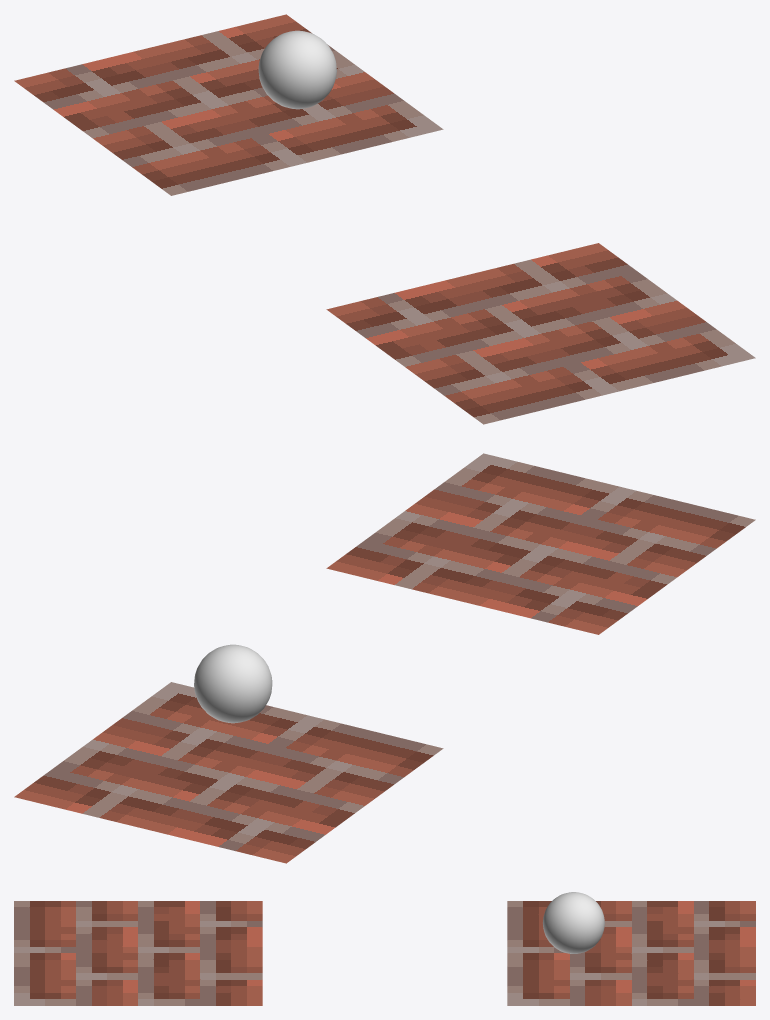
3 views of the same model, one above another, from view 1: azimuth 30°, elevation 25°; view 2: azimuth 150°, elevation 25°; view 3: azimuth 270°, elevation 25° (orthographic). The views are drawn at different scales.
Visible parts, largest first — view 1: Plane, Plane.001, Sphere; view 2: Plane, Plane.001, Sphere; view 3: Plane, Plane.001, Sphere.
Part boxes in pixels (<box>): Plane: <box>326,243,755,424</box>; Plane.001: <box>14,14,443,195</box>; Sphere: <box>258,30,336,109</box>; Plane: <box>326,453,755,634</box>; Plane.001: <box>14,682,443,863</box>; Sphere: <box>194,644,272,723</box>; Plane: <box>14,901,262,1005</box>; Plane.001: <box>507,901,755,1005</box>; Sphere: <box>543,892,604,953</box>.
Size of the model in its own units: 8 by 2.52 by 23.88.
1 material, 1 textured.
